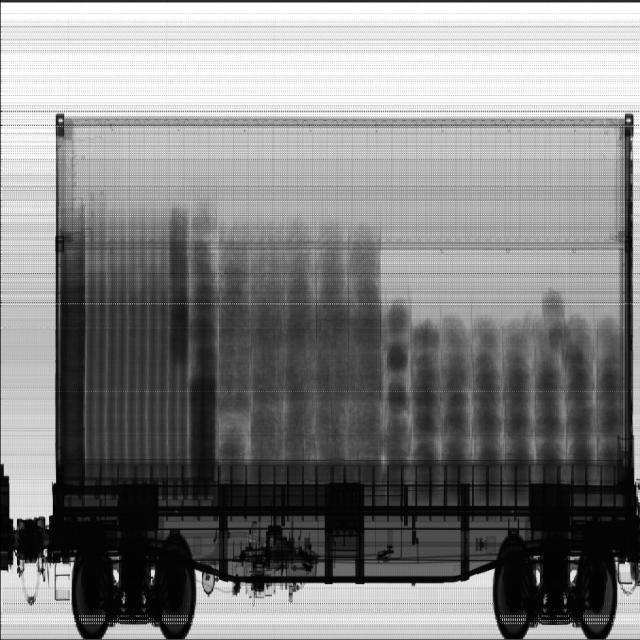clothes: (379, 289, 621, 459), (167, 202, 216, 471)
